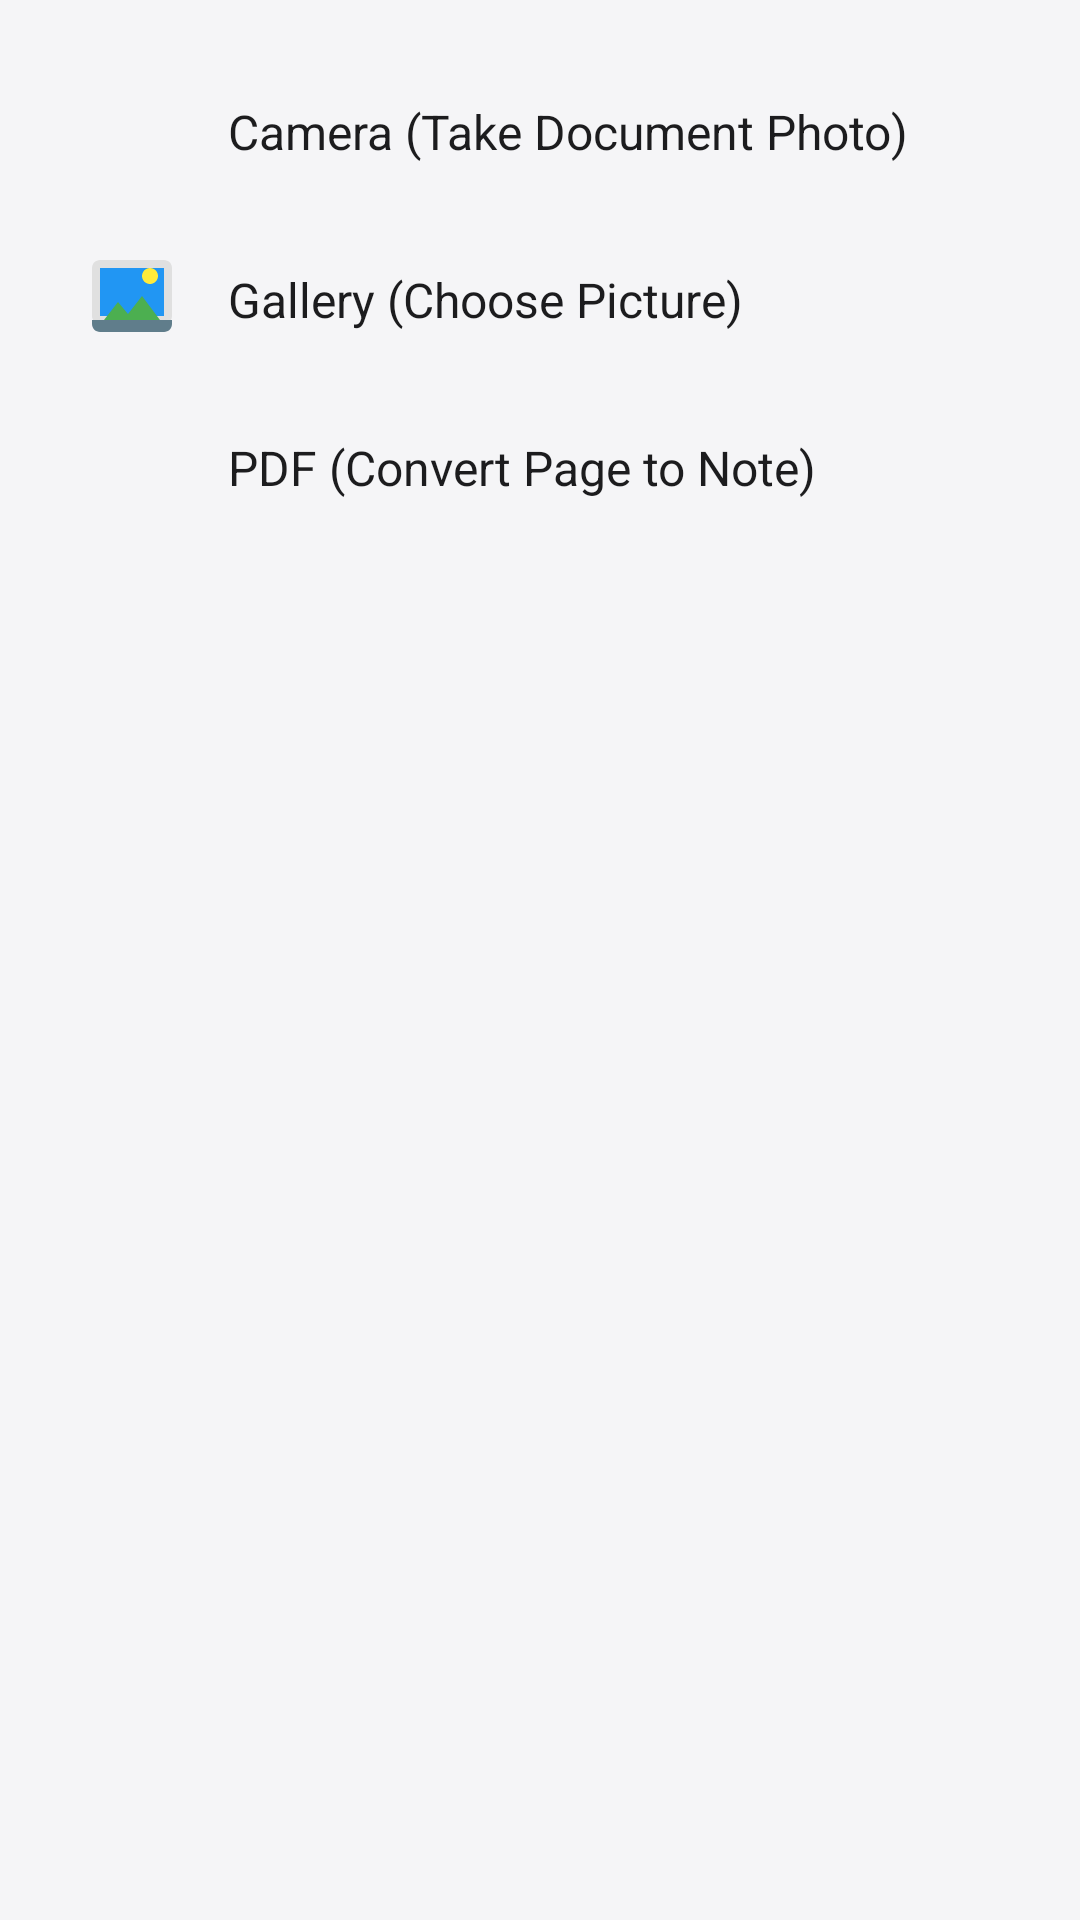

Point at icon controls on the screen. Image size 1080w x 1920h, points as (x=x, y=y).
notif gallery: (x=132, y=300)
